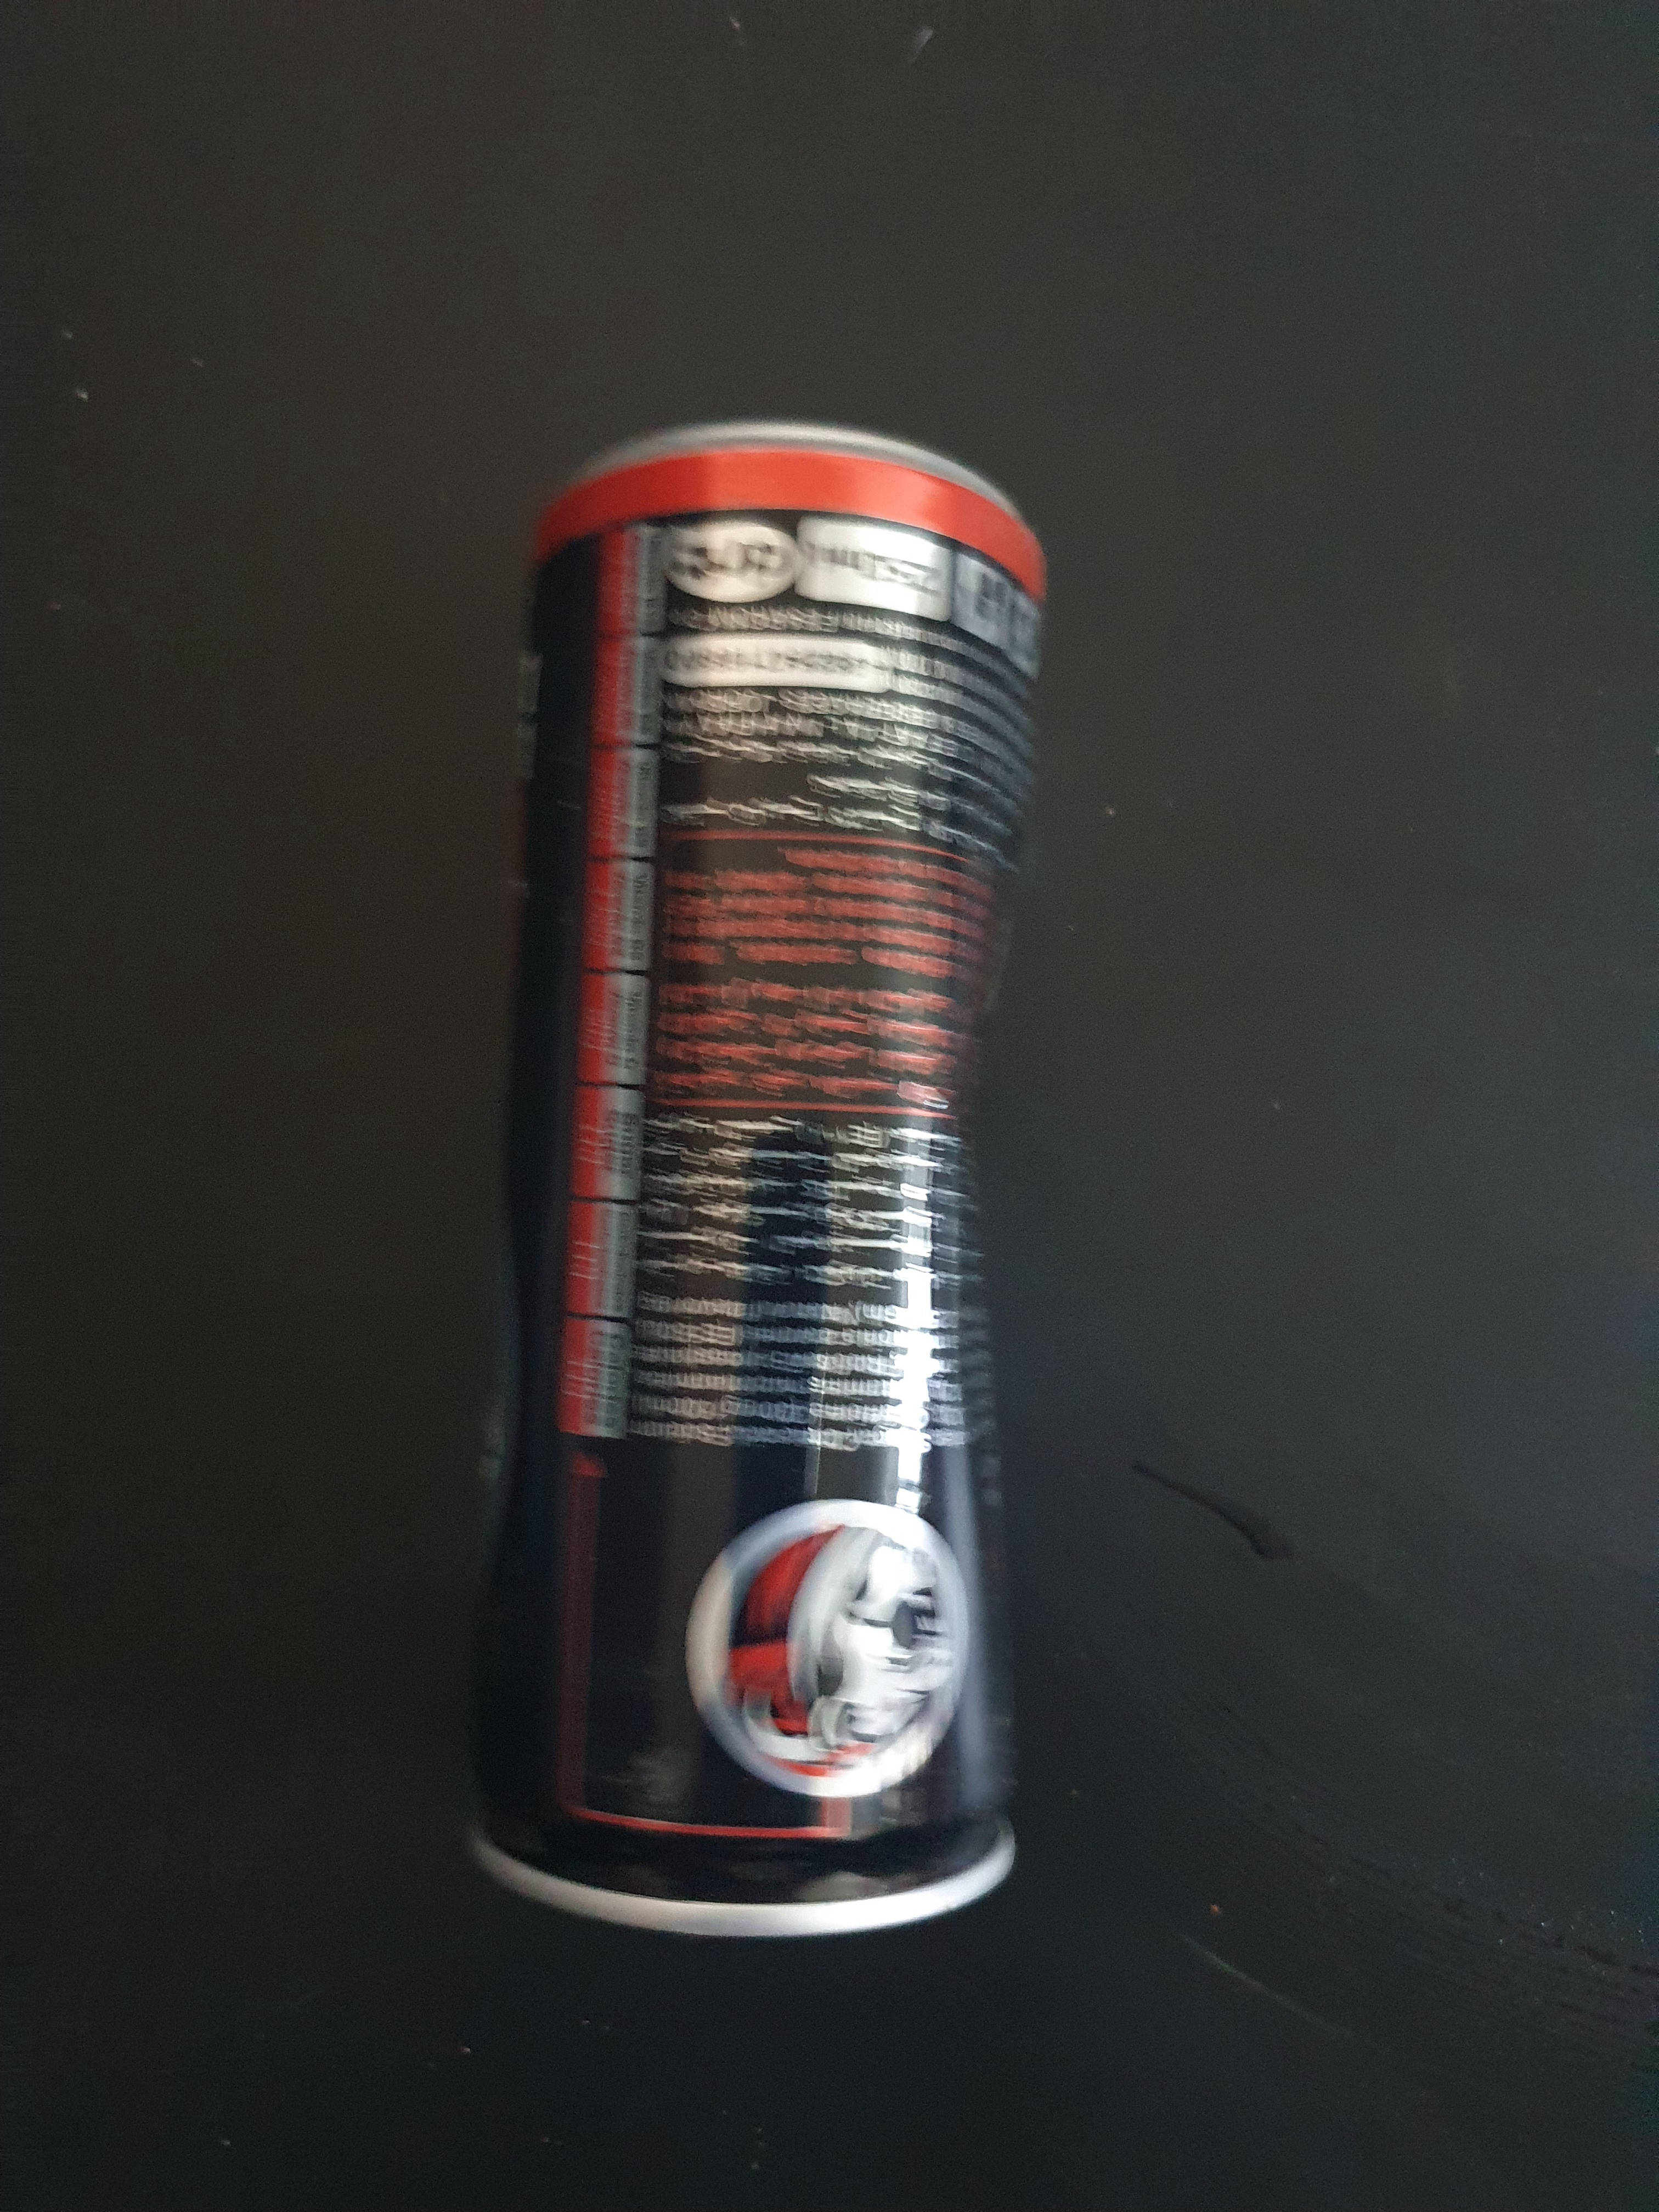metal: (397, 343, 1114, 2034)
